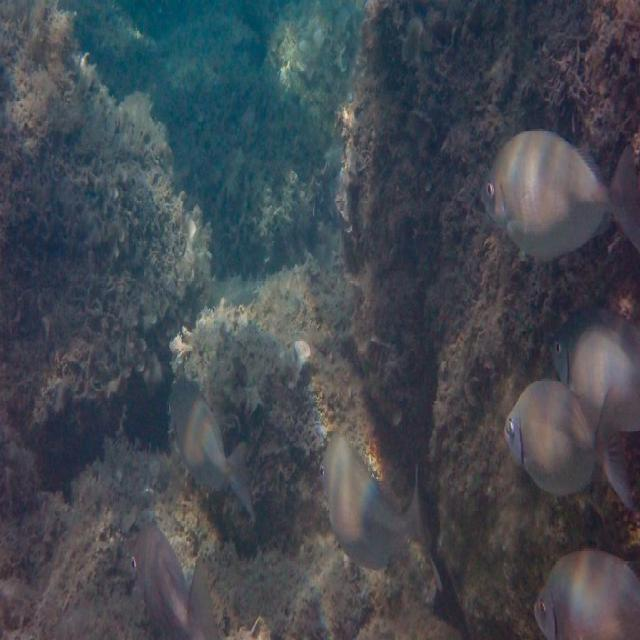Sokar Baligi: (469, 109, 640, 263), (502, 350, 636, 524)
